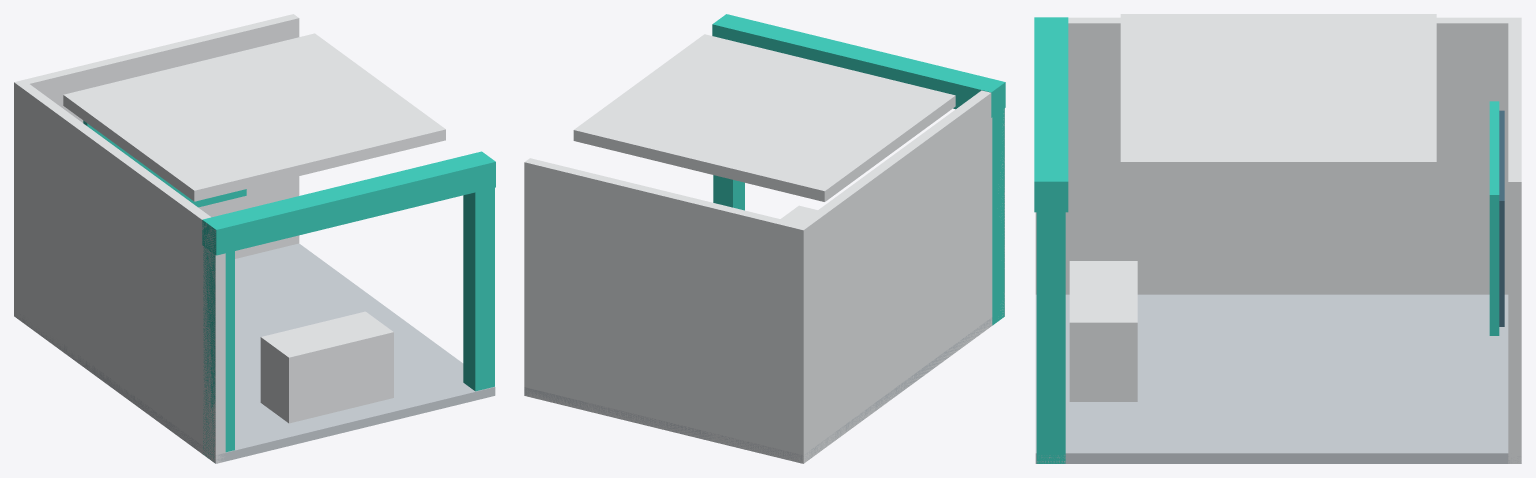
3 views of the same model, side by side, from view 1: azimuth 30°, elevation 25°; view 2: azimuth 150°, elevation 25°; view 3: azimuth 270°, elevation 25° (orthographic). The views are drawn at different scales.
Parts seen in each view (by area): view 1: Exhibition Booth Concept; view 2: Exhibition Booth Concept; view 3: Exhibition Booth Concept.
Part boxes in pixels (x1=…): Exhibition Booth Concept: x1=14, y1=14, x2=495, y2=463; Exhibition Booth Concept: x1=524, y1=14, x2=1005, y2=463; Exhibition Booth Concept: x1=1034, y1=14, x2=1521, y2=463.
Bounding box in the file's own units: 4 × 3.34 × 5.02.
